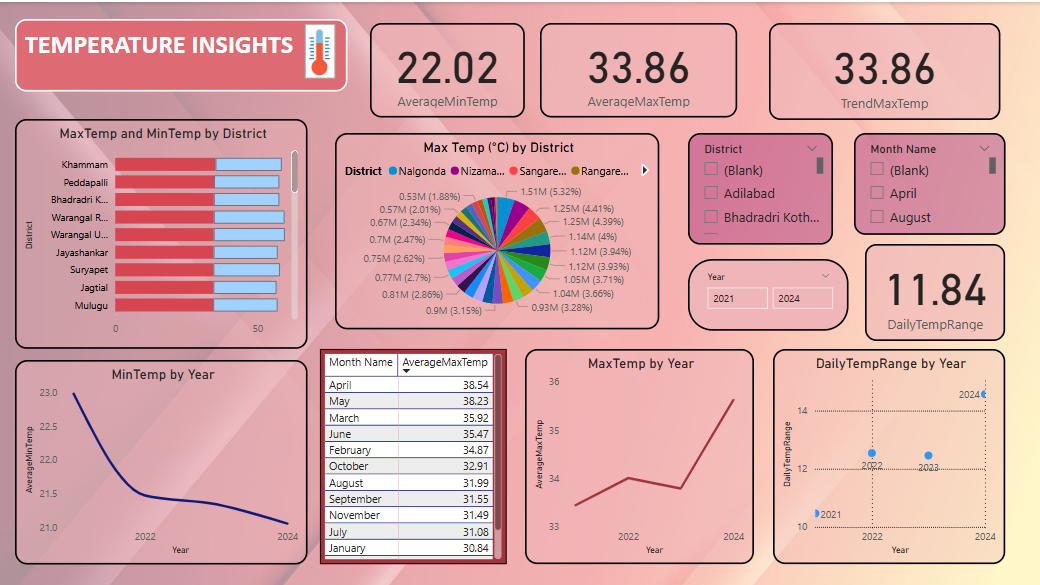

The dashboard page shown, as its layout file describes it:
{"tool":"powerbi","page":{"name":"Temperature Insights","canvas":[1280,720],"ordinal":1},"visuals":[{"type":"barChart","title":"MaxTemp and MinTemp by District","fields":{"Y":["Weather_Data.AverageMaxTemp","Weather_Data.AverageMinTemp"],"Category":["Weather_Data.District"]},"box":[22.3,144,359.4,282.1],"z":0},{"type":"lineChart","title":"MaxTemp by Year","fields":{"Category":["Weather_Data.Year"],"Y":["Weather_Data.AverageMaxTemp"]},"box":[647.4,426.2,280.6,264.3],"z":1000},{"type":"lineChart","title":"MinTemp by Year","fields":{"Y":["Weather_Data.AverageMinTemp"],"Category":["Weather_Data.Year"]},"box":[22.3,439.5,359.4,251],"z":2000},{"type":"pieChart","title":"Max Temp (°C) by District","fields":{"Category":["Weather_Data.District"],"Y":["Sum(Weather_Data.Max Temp (°C))"]},"box":[414.3,160.4,398,240.6],"z":3000},{"type":"scatterChart","fields":{"Y":["Weather_Data.DailyTempRange"],"X":["Weather_Data.Date.Variation.Date Hierarchy.Year","Weather_Data.Date.Variation.Date Hierarchy.Quarter","Weather_Data.Date.Variation.Date Hierarchy.Month","Weather_Data.Date.Variation.Date Hierarchy.Day"]},"box":[951.8,426.2,285.1,264.3],"z":4000},{"type":"pivotTable","fields":{"Rows":["Weather_Data.Month Name"],"Values":["Weather_Data.AverageMaxTemp"]},"box":[396.5,426.2,228.7,264.3],"z":5000},{"type":"card","fields":{"Values":["Weather_Data.AverageMaxTemp"]},"box":[666.7,25.2,242,115.8],"z":6000},{"type":"card","fields":{"Values":["Weather_Data.AverageMinTemp"]},"box":[457.4,25.2,190.1,115.8],"z":7000},{"type":"card","fields":{"Values":["Weather_Data.TrendMaxTemp"]},"box":[947.4,25.2,283.6,118.8],"z":8000},{"type":"card","fields":{"Values":["Weather_Data.DailyTempRange"]},"box":[1064.7,297,172.3,118.8],"z":9000},{"type":"slicer","fields":{"Values":["Weather_Data.Month Name"]},"box":[1051.3,160.4,185.6,124.7],"z":10000},{"type":"slicer","fields":{"Values":["Weather_Data.District"]},"box":[847.9,160.4,178.2,136.6],"z":11000},{"type":"slicer","fields":{"Values":["Weather_Data.Year"]},"box":[847.9,314.8,197.5,87.6],"z":12000},{"type":"textbox","box":[22.3,20.8,408.4,89.1],"z":13000},{"type":"image","box":[344.5,20.8,103.9,78.7],"z":14000}]}

Visuals, with their boxes in screenshot pixels (x1, y1, x2, y2), scaled from the page's 1280x720 canvas onto the 1040x585 screenshot:
"MaxTemp and MinTemp by District" barChart: 18/117/310/346
"MaxTemp by Year" lineChart: 526/346/754/561
"MinTemp by Year" lineChart: 18/357/310/561
"Max Temp (°C) by District" pieChart: 337/130/660/326
scatterChart - Weather_Data.DailyTempRange x Weather_Data.Date.Variation.Date Hierarchy.Year: 773/346/1005/561
pivotTable - Weather_Data.Month Name x Weather_Data.AverageMaxTemp: 322/346/508/561
card - Weather_Data.AverageMaxTemp: 542/20/738/115
card - Weather_Data.AverageMinTemp: 372/20/526/115
card - Weather_Data.TrendMaxTemp: 770/20/1000/117
card - Weather_Data.DailyTempRange: 865/241/1005/338
slicer - Weather_Data.Month Name: 854/130/1005/232
slicer - Weather_Data.District: 689/130/834/241
slicer - Weather_Data.Year: 689/256/849/327
textbox: 18/17/350/89
image: 280/17/364/81
